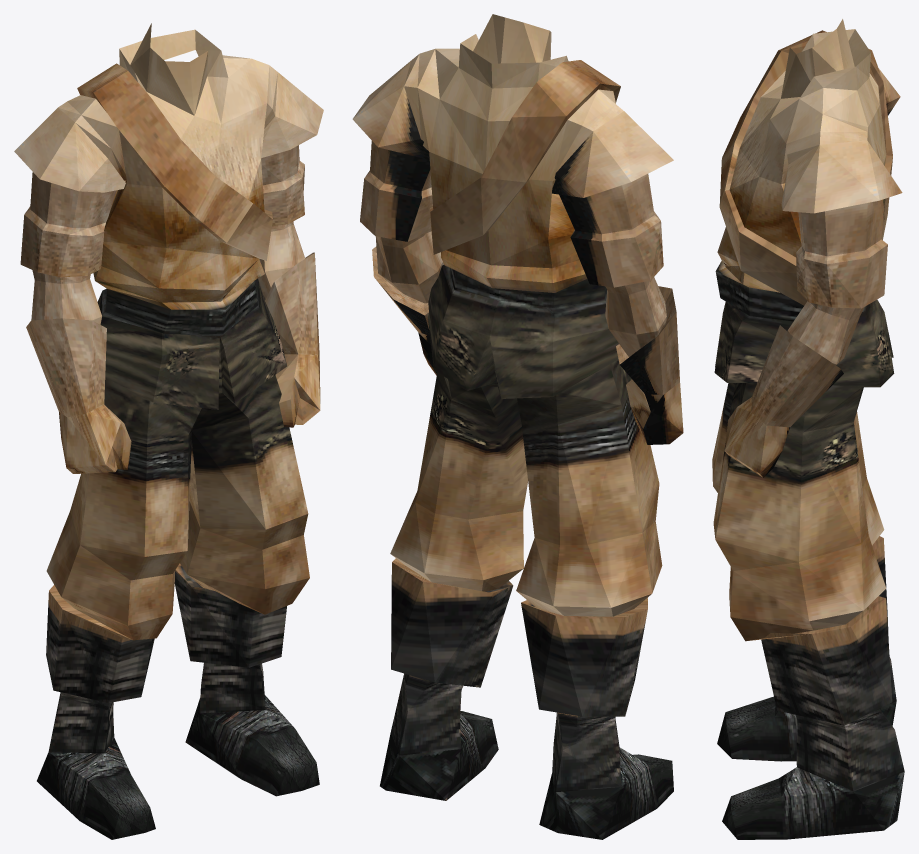
File: Armor_PIR_M_Addon.glb
The picture shows the model from 3 angles, left to right: view 1: azimuth 30°, elevation 25°; view 2: azimuth 150°, elevation 25°; view 3: azimuth 270°, elevation 25°; orthographic projection. The views are drawn at different scales.
Parts seen in each view (by area): view 1: Armor_PIR_M_Addonzm_body; view 2: Armor_PIR_M_Addonzm_body; view 3: Armor_PIR_M_Addonzm_body.
Boxes of the visible parts, x1,y1,x2,y2 form: Armor_PIR_M_Addonzm_body: [14, 23, 323, 839]; Armor_PIR_M_Addonzm_body: [352, 14, 683, 839]; Armor_PIR_M_Addonzm_body: [712, 19, 904, 839].
Size of the model in its own units: 0.6861 by 1.69 by 0.3824.
2 materials, 2 textured.
